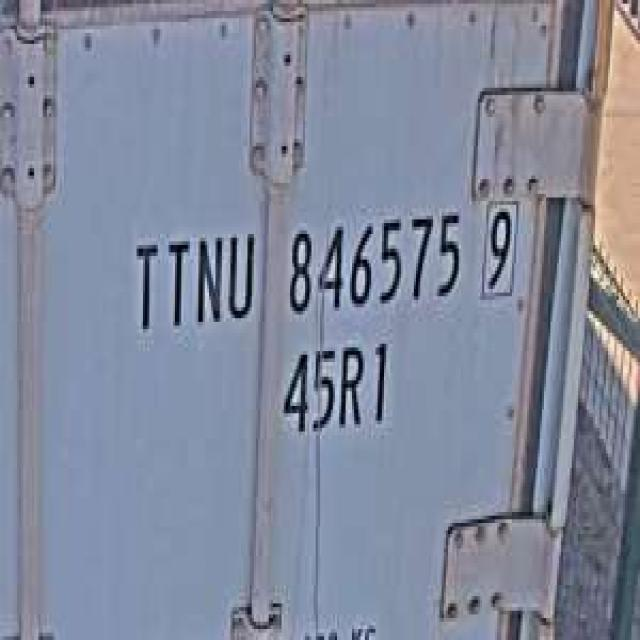dv: (476, 190, 522, 304)
owner: (126, 216, 256, 340)
serial: (280, 197, 465, 322)
size: (275, 333, 395, 442)
